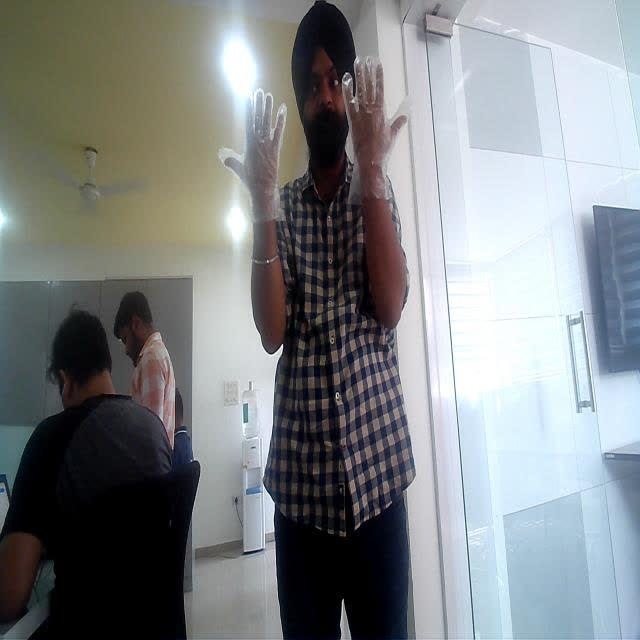with_gloves: (220, 66, 288, 206), (341, 63, 412, 194)
